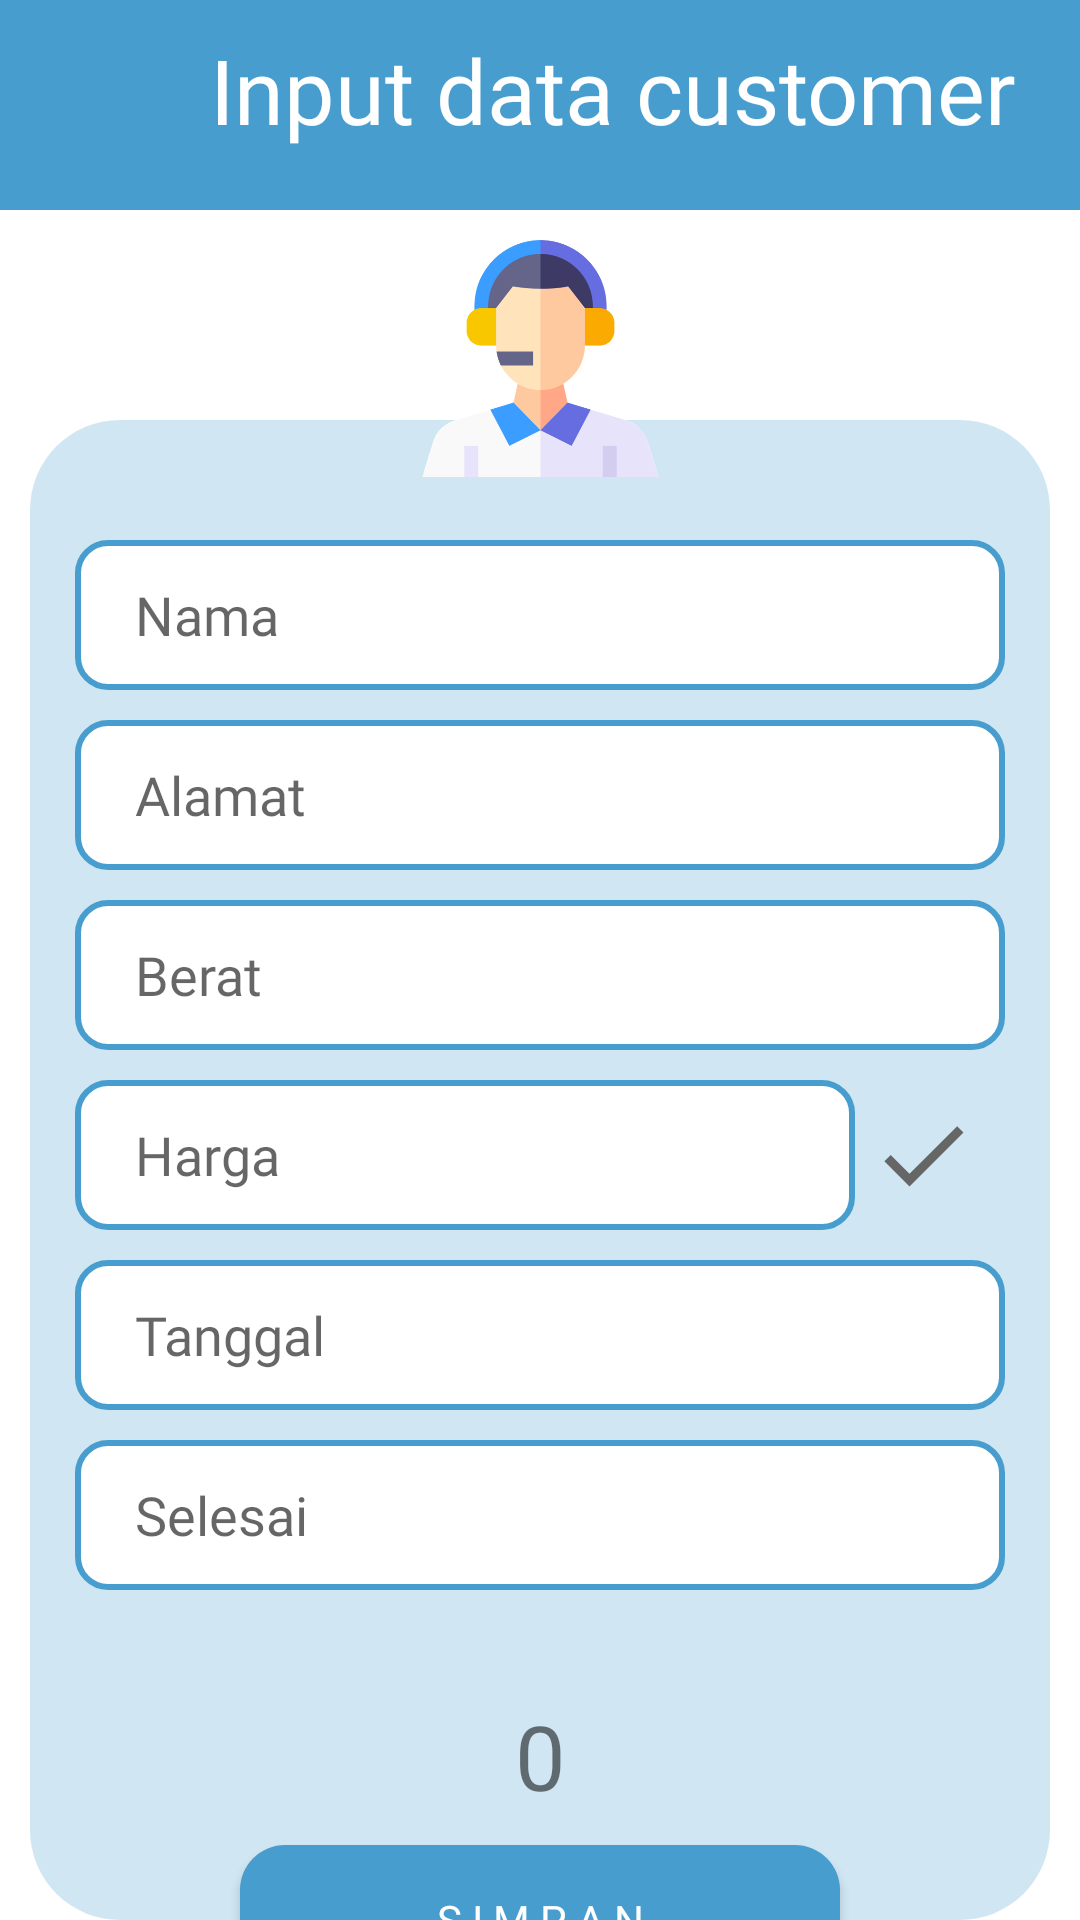

Where icons sit on this 1080px×1920px app screen, as bbox(x1, y1, x2, y2):
check: bbox(845, 1101, 964, 1209)
